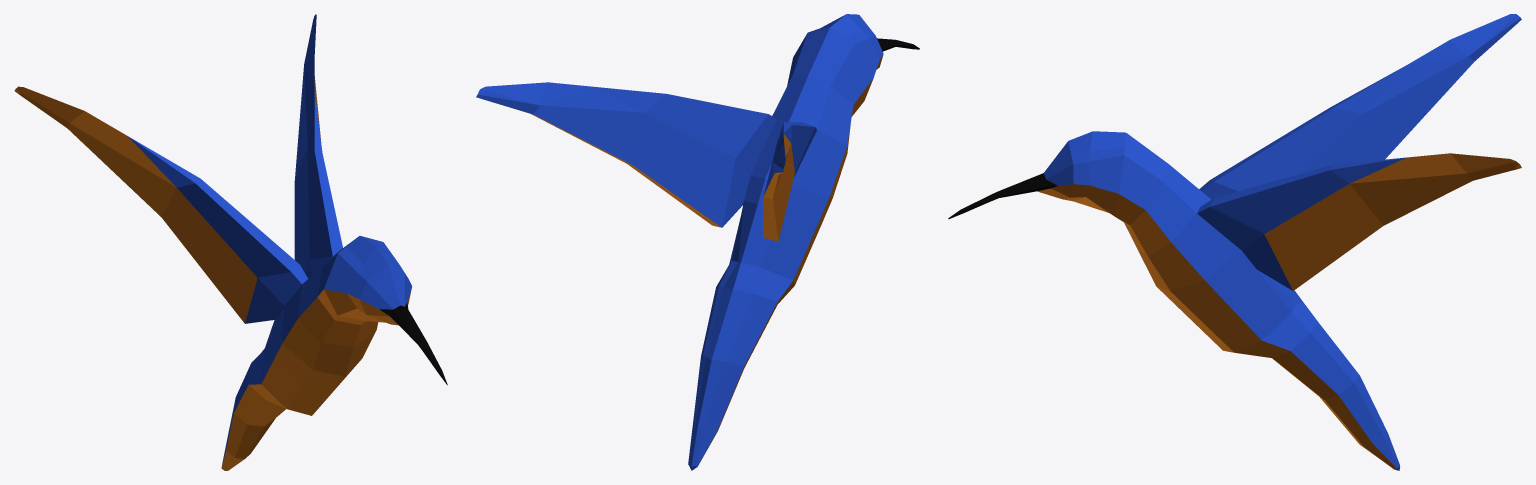
File: HummingBird.obj
The picture shows the model from 3 angles, left to right: view 1: azimuth 30°, elevation 25°; view 2: azimuth 150°, elevation 25°; view 3: azimuth 270°, elevation 25°; orthographic projection. The views are drawn at different scales.
Parts seen in each view (by area): view 1: Circle; view 2: Circle; view 3: Circle.
Part boxes in pixels (<box>): Circle: <box>14,14,447,470</box>; Circle: <box>476,14,919,470</box>; Circle: <box>948,14,1521,470</box>.
Bounding box in the file's own units: 4.42 × 5.34 × 7.22.
